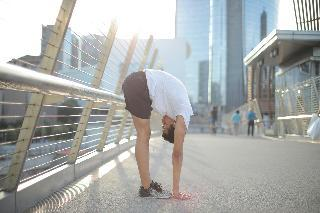person - v3 P: (123, 70, 193, 199), (208, 106, 217, 133), (232, 111, 240, 135), (248, 109, 255, 136)
